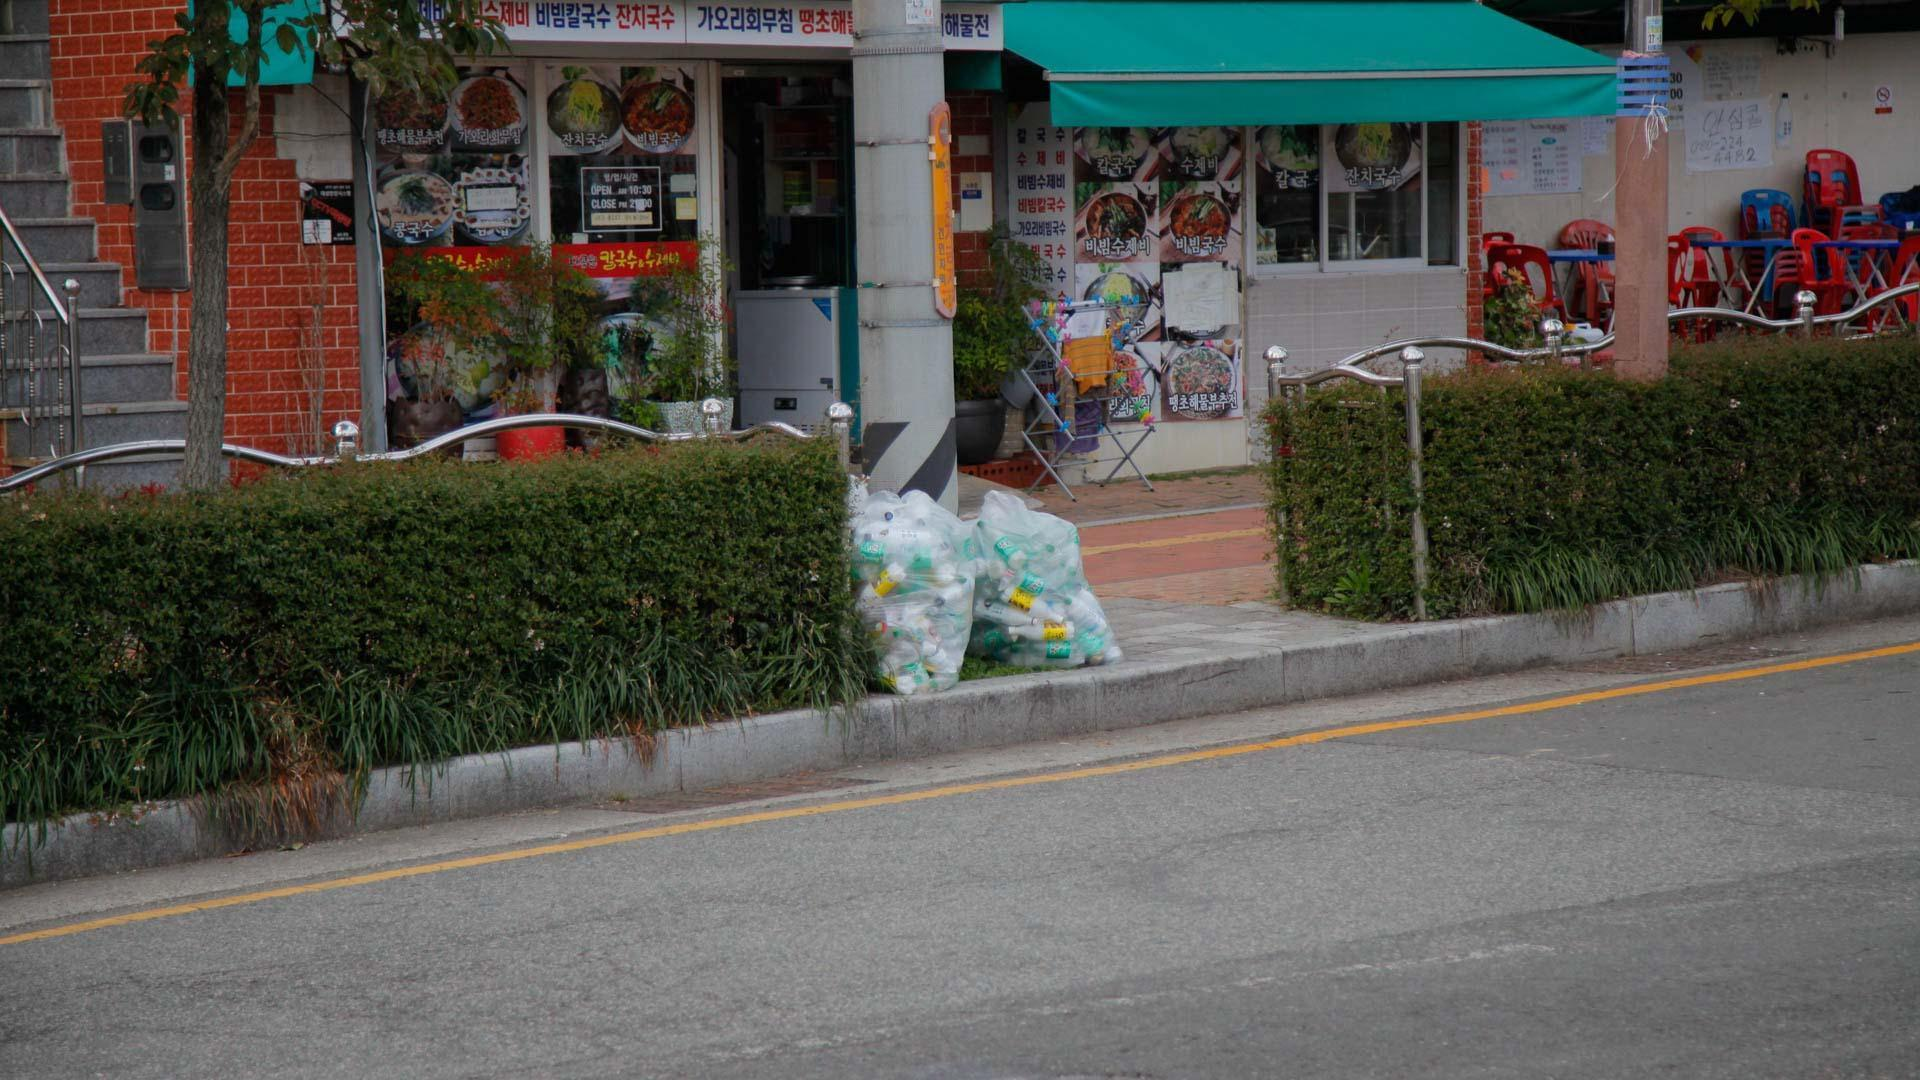white_bag: (831, 468, 975, 702), (964, 484, 1131, 674)
